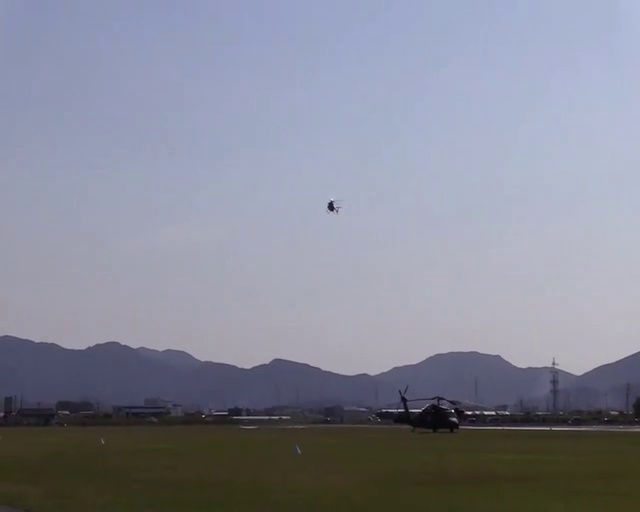HELICOPTER: (327, 199, 343, 214)
